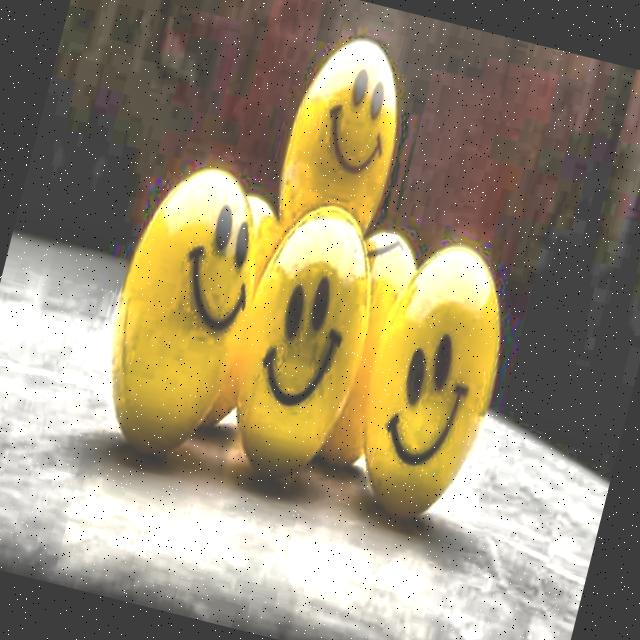happy: (226, 188, 384, 472), (111, 173, 276, 415), (359, 280, 500, 487), (296, 43, 415, 227)
